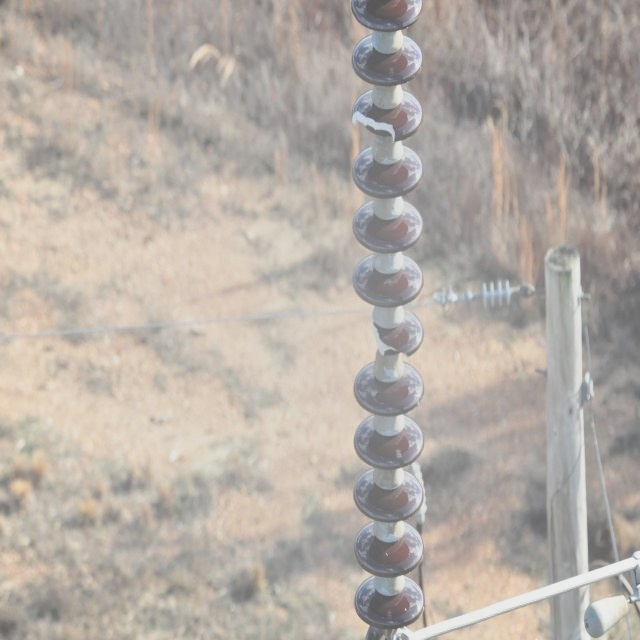broken: (368, 315, 412, 359), (352, 105, 397, 144)
insulator: (348, 0, 427, 622)
